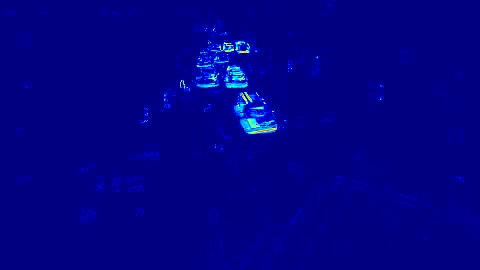vehicle: (235, 94, 268, 132), (225, 66, 249, 91)
